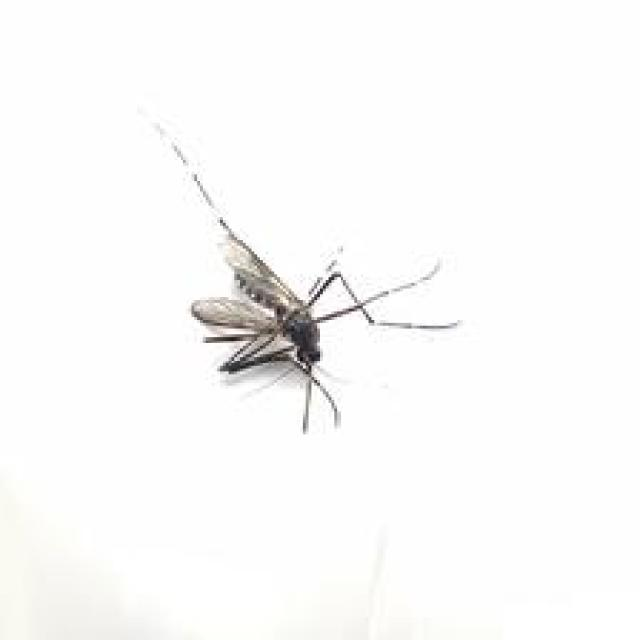Aedes albopictus: (138, 109, 462, 434)
